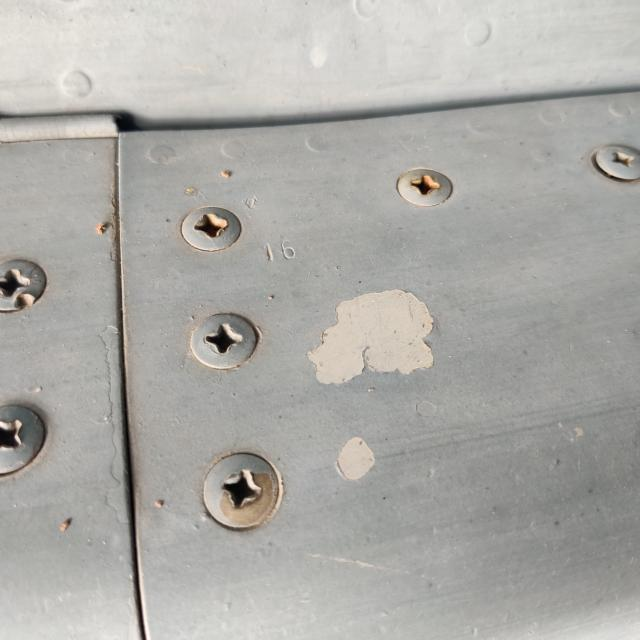paint-off: (294, 260, 459, 408), (312, 412, 403, 501)
